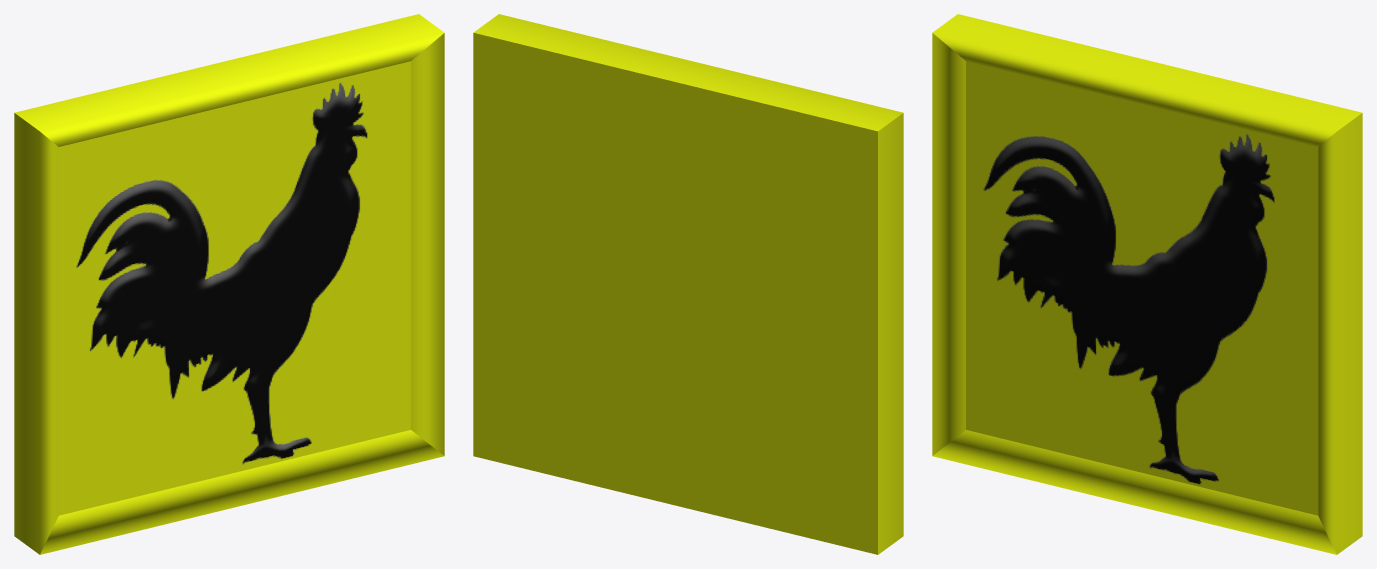
Rendered from Yellow Roaster .fbx.
The picture shows the model from 3 angles, left to right: view 1: azimuth 30°, elevation 25°; view 2: azimuth 150°, elevation 25°; view 3: azimuth 330°, elevation 25°; orthographic projection.
Visible parts, largest first — view 1: pCube1; view 2: pCube1; view 3: pCube1.
Part boxes in pixels (x1,y1,x2,y2): pCube1: (14, 14, 444, 554); pCube1: (473, 14, 903, 554); pCube1: (932, 14, 1362, 554).
Bounding box in the file's own units: 3 × 3 × 0.3283.
1 material, 1 textured.
